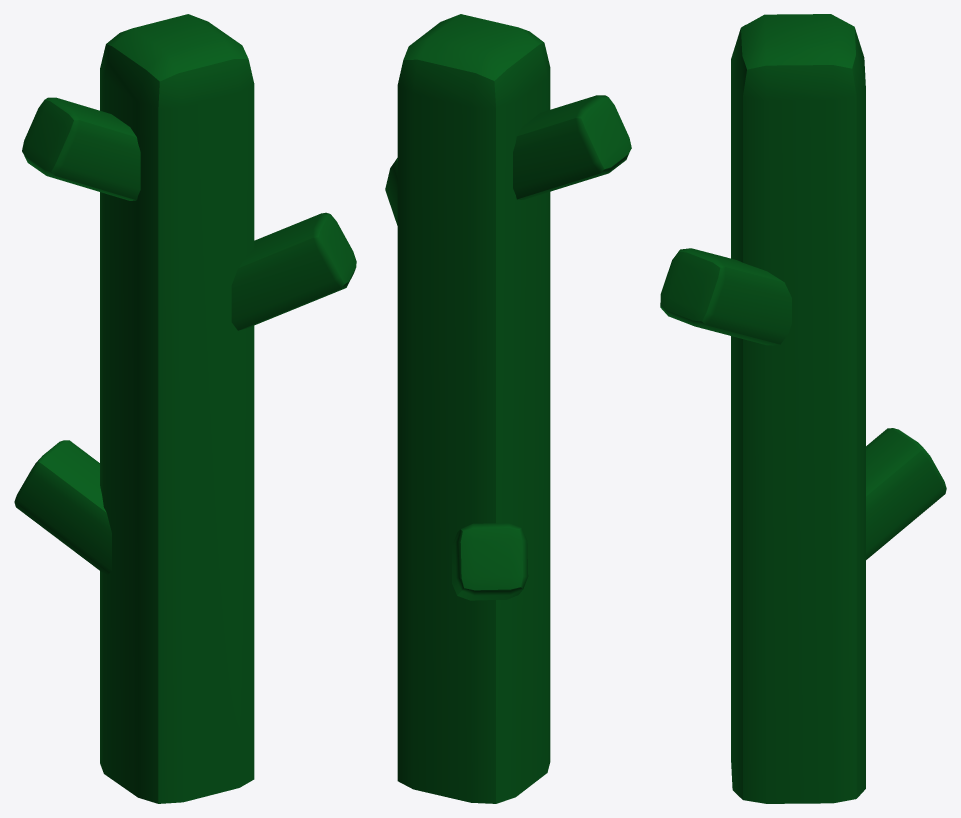
Rendered from Cactus_2.fbx.
The picture shows the model from 3 angles, left to right: view 1: azimuth 30°, elevation 25°; view 2: azimuth 150°, elevation 25°; view 3: azimuth 270°, elevation 25°; orthographic projection.
Visible parts, largest first — view 1: Cactus_2; view 2: Cactus_2; view 3: Cactus_2.
Boxes of the visible parts, x1=… form: Cactus_2: x1=14, y1=14, x2=356, y2=803; Cactus_2: x1=385, y1=14, x2=631, y2=803; Cactus_2: x1=660, y1=14, x2=946, y2=803.
Bounding box in the file's own units: 47.09 × 120 × 41.79.
